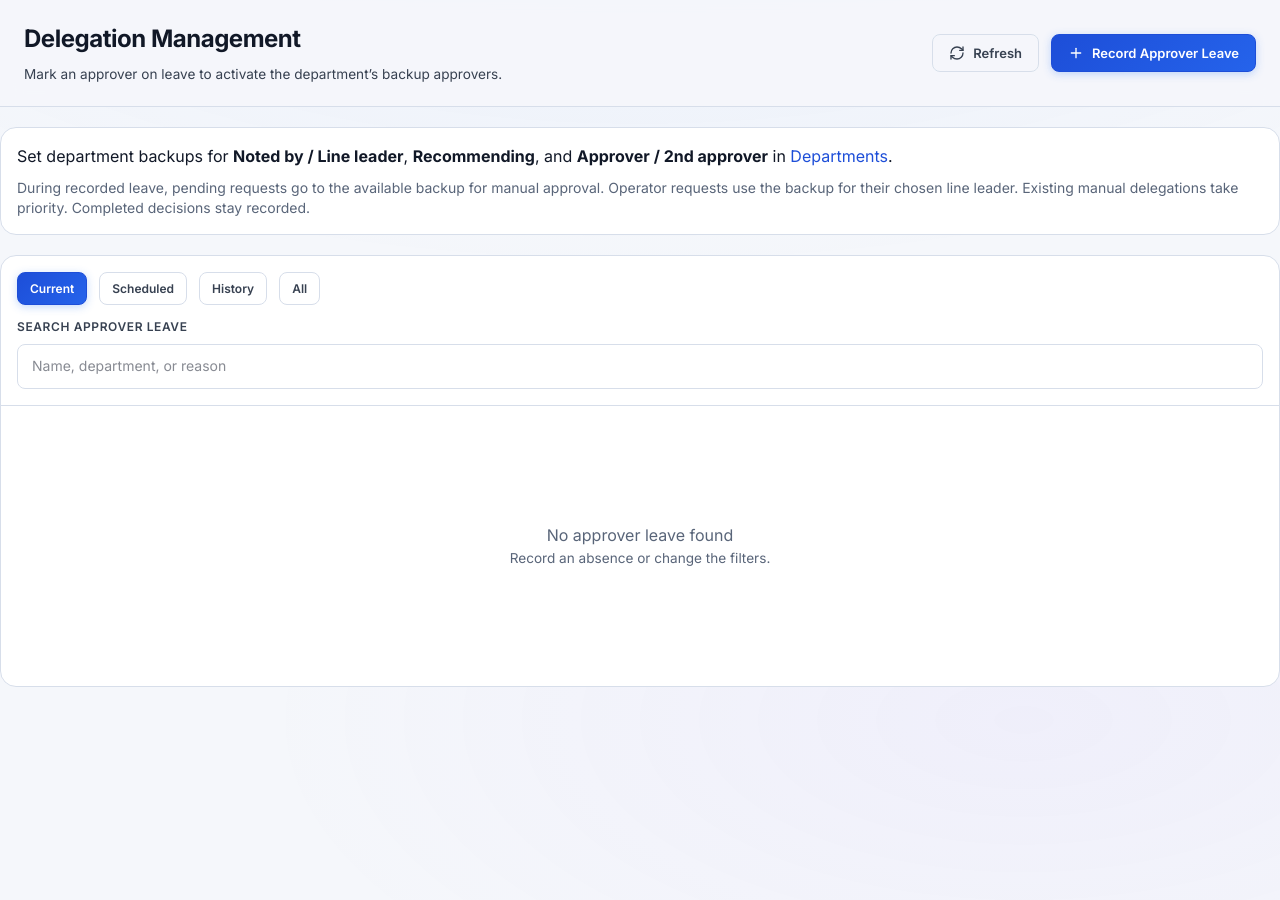
admin approver leave coverage › keeps conflicting leave dates reviewable after a server rejection
The image size is (1280, 900).
Click the button "Record Approver Leave": click(1154, 53) [1051,34,1256,72]
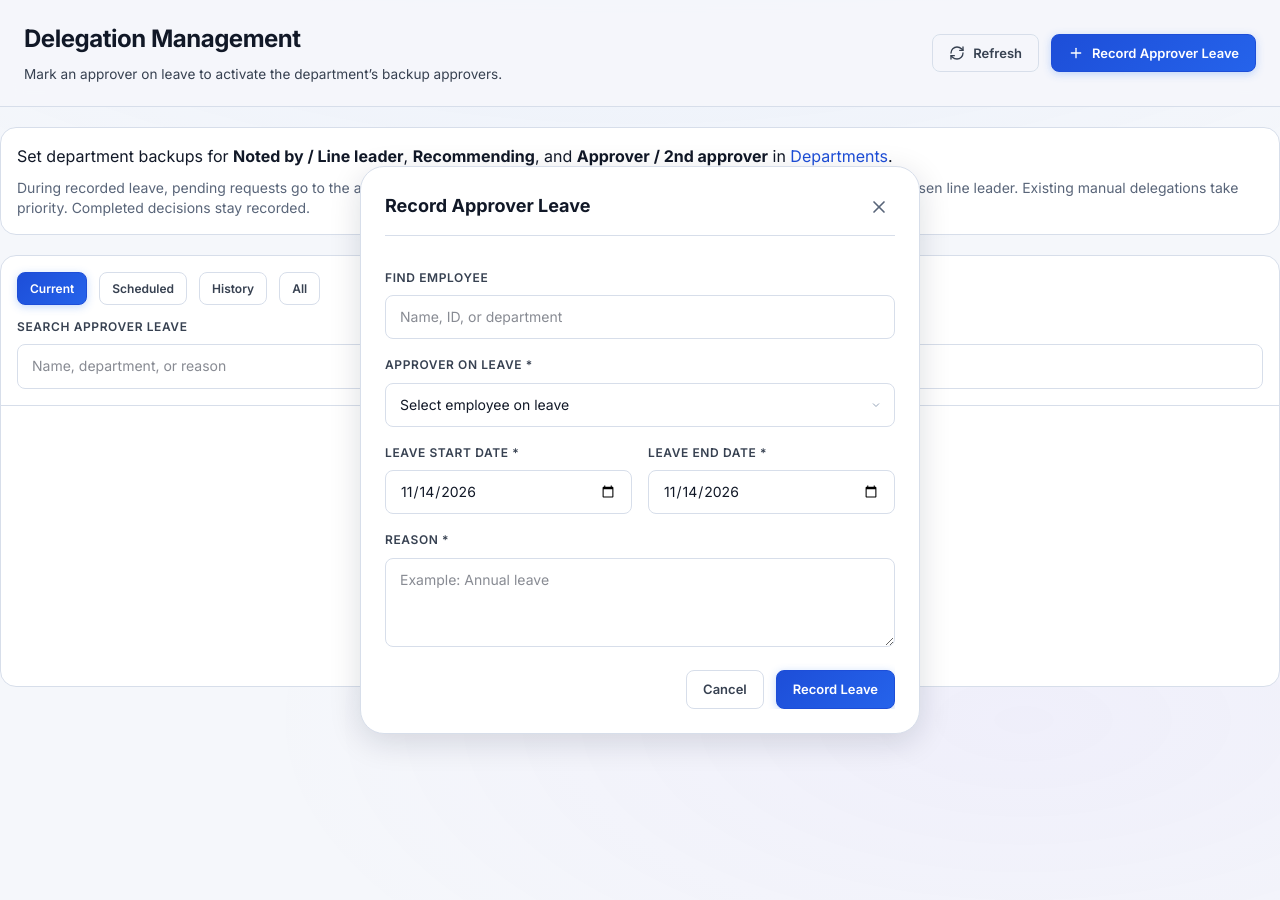
Select "Selected Line Leader · LEAD-2 (Production)" in the dropdown labelled "Approver on leave *": (640, 405) [385,382,895,427]
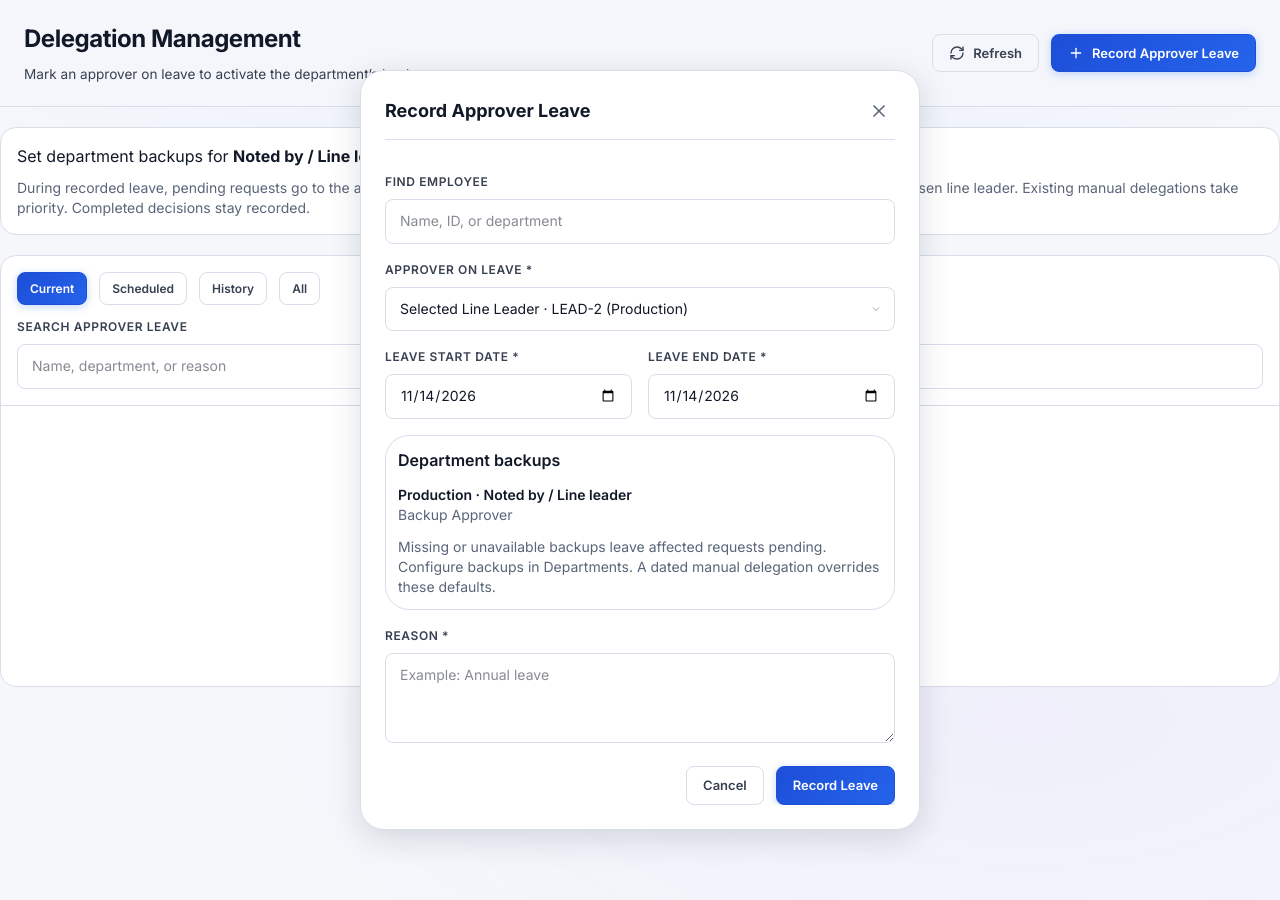
In the text box labelled "Reason *": (640, 698) [385,654,895,743], type "Annual leave"
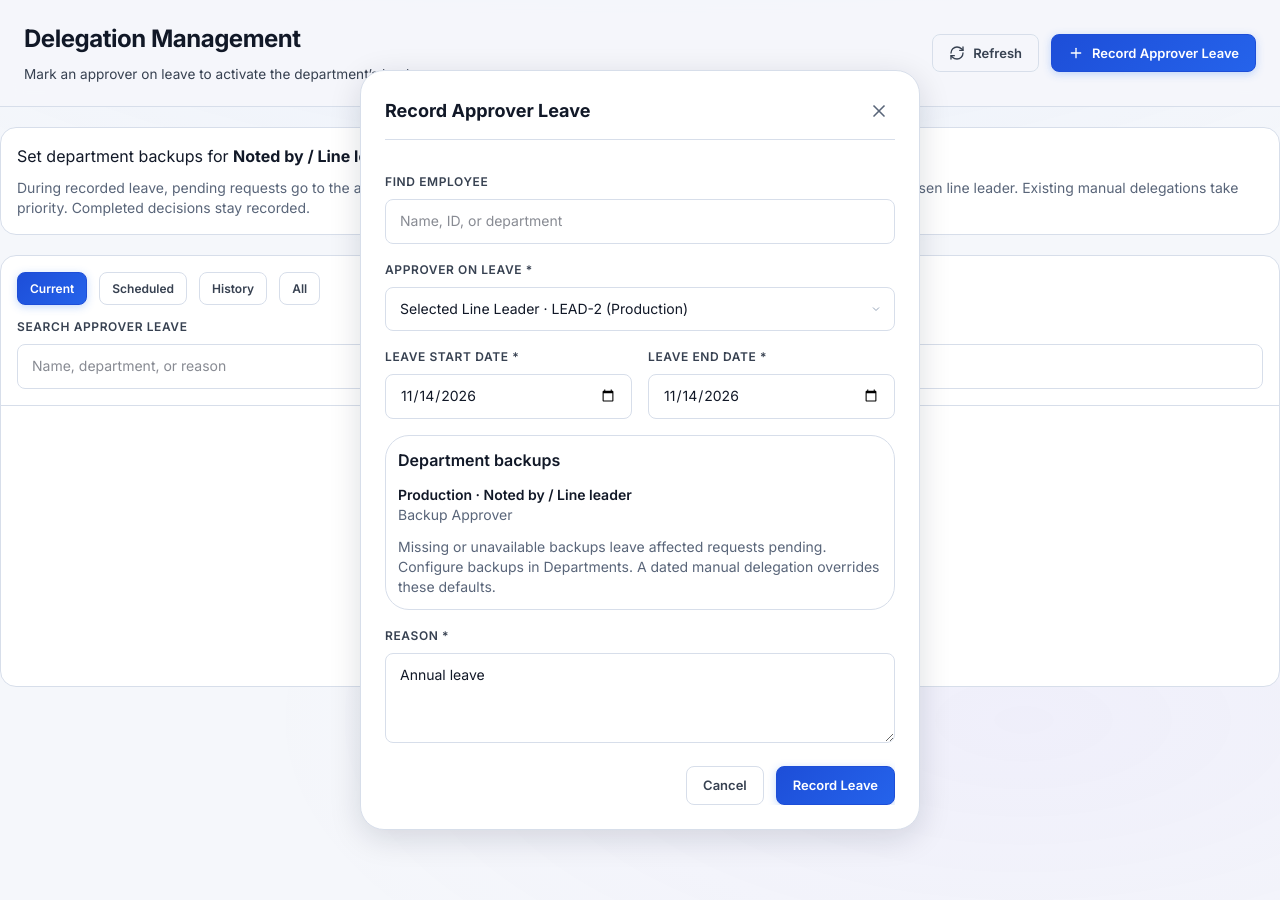
Click the button "Record Leave": click(835, 786) [776,766,895,805]
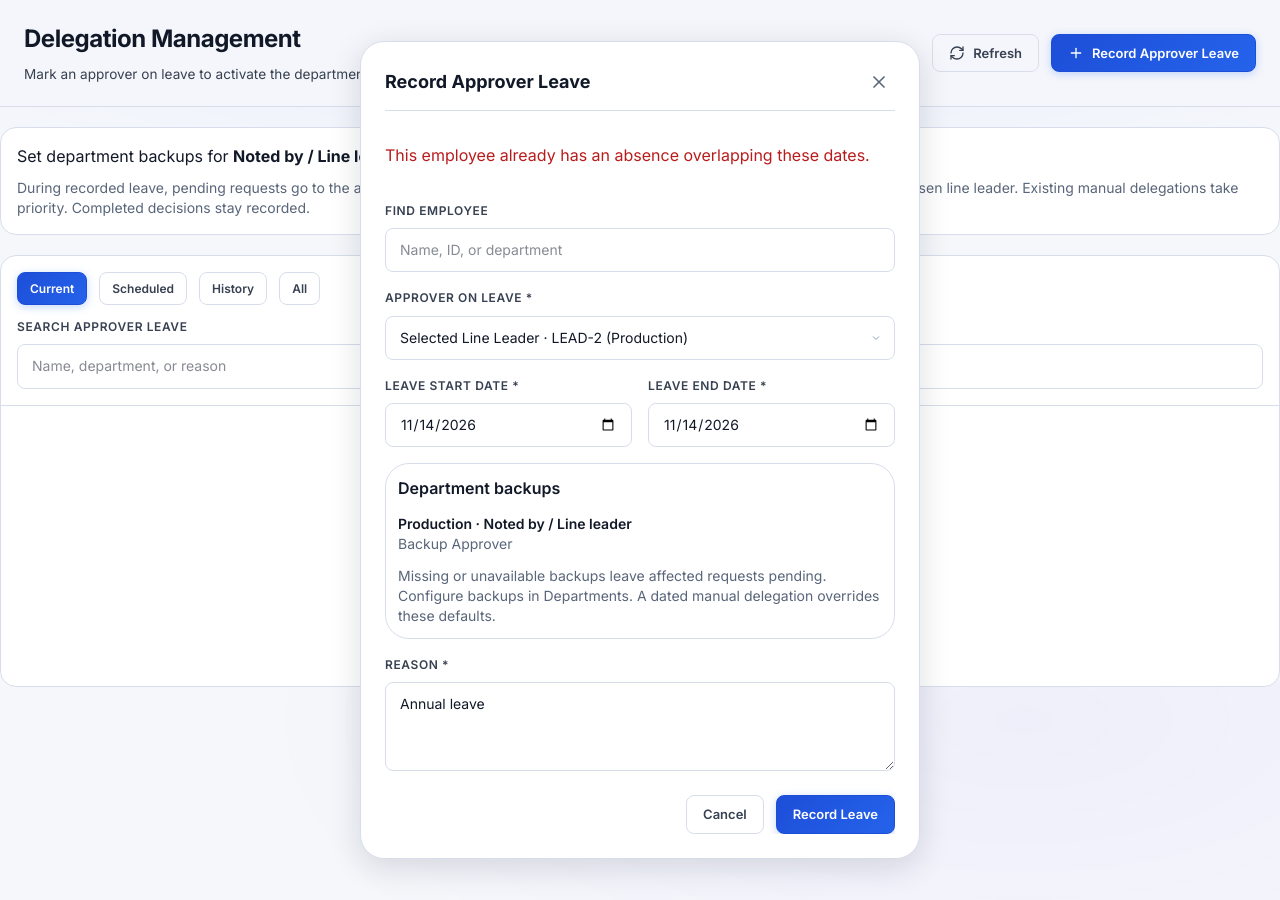
Now the message shows "overlapping", box [385,145,870,165]
